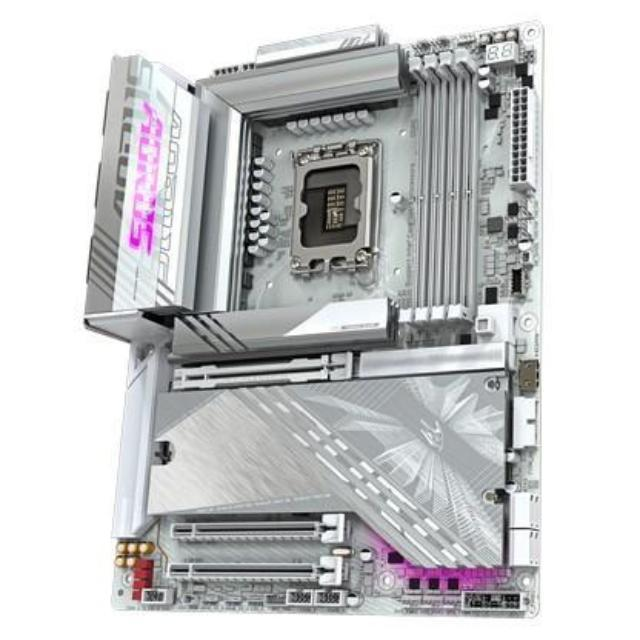Mainboard: (95, 18, 556, 632)
